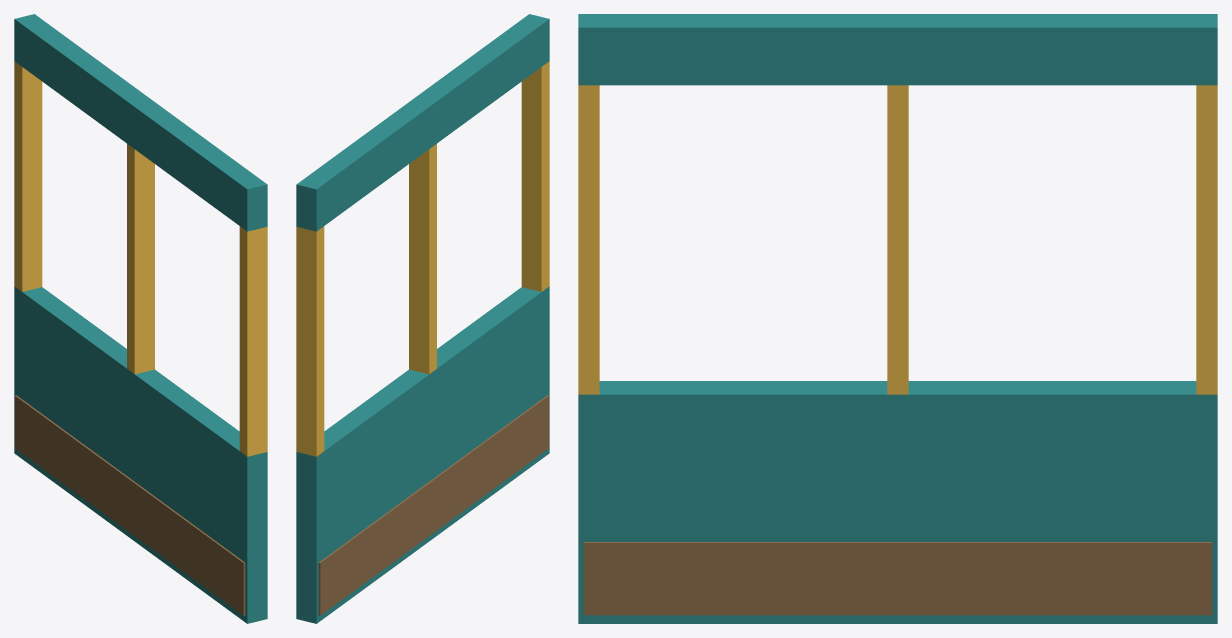
Rendered from passenger_door.glb.
3 renders of one model, left to right at view 1: azimuth 30°, elevation 25°; view 2: azimuth 150°, elevation 25°; view 3: azimuth 270°, elevation 25°, orthographic. The views are drawn at different scales.
Visible parts, largest first — view 1: transit/passenger_door; view 2: transit/passenger_door; view 3: transit/passenger_door.
Boxes of the visible parts, bbox=[...] form: transit/passenger_door: bbox=[14, 14, 267, 623]; transit/passenger_door: bbox=[296, 14, 549, 623]; transit/passenger_door: bbox=[578, 14, 1217, 623].
Size of the model in its own units: 0.14 by 2.47 by 2.4.
